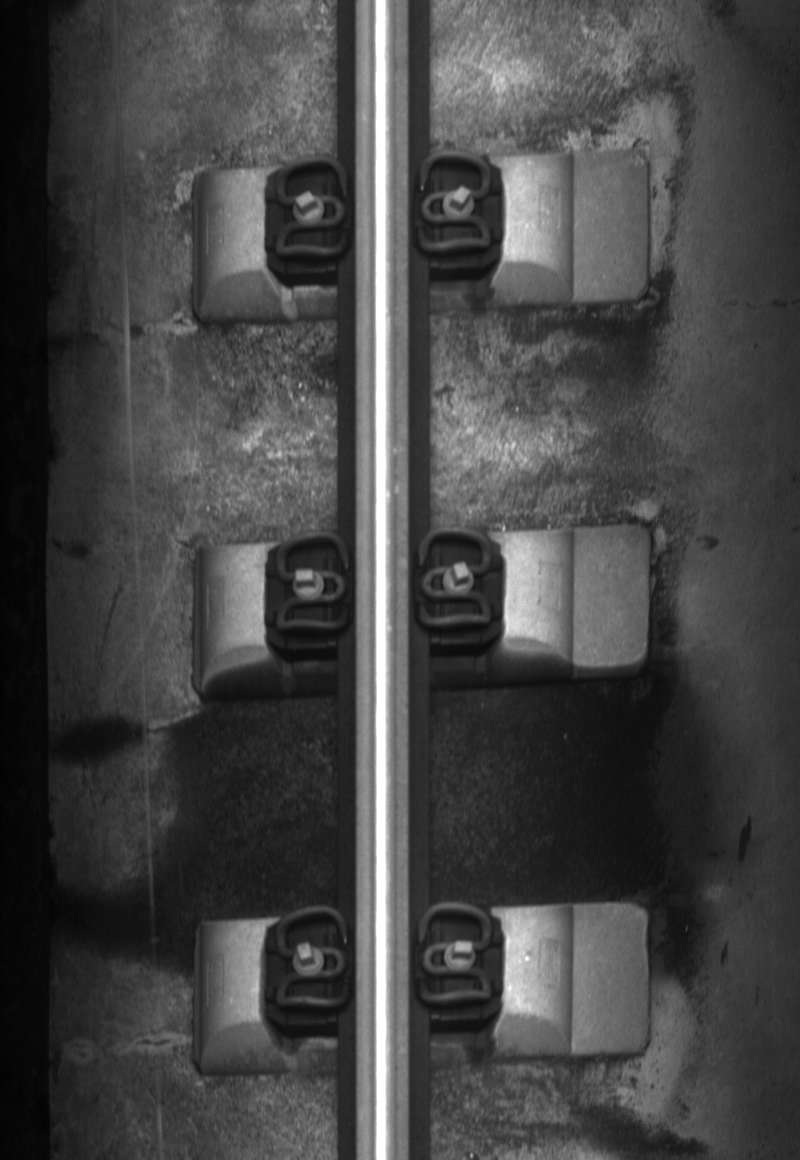l_faster: (268, 901, 354, 1018), (411, 522, 500, 635), (270, 528, 354, 645), (269, 152, 353, 268)
r_faster: (411, 145, 498, 260), (412, 895, 495, 1011)
